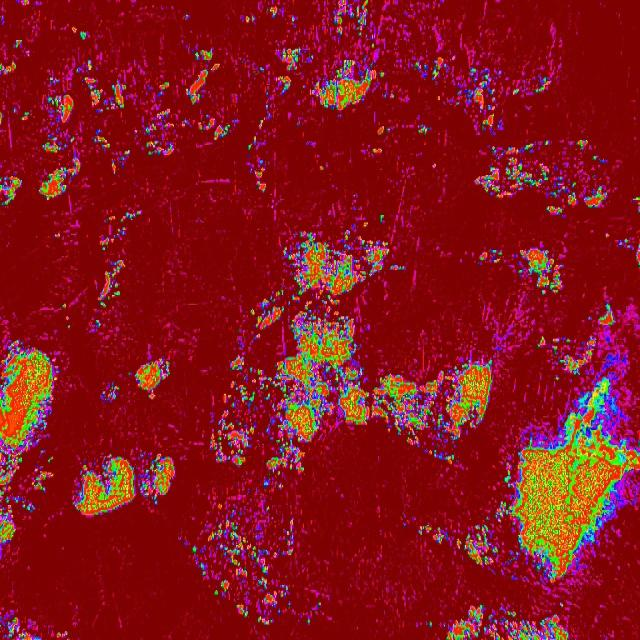fire: (210, 230, 493, 488), (495, 376, 640, 590), (190, 503, 296, 627), (0, 338, 58, 548), (473, 136, 618, 219), (72, 450, 176, 518), (446, 601, 568, 640), (312, 56, 384, 109), (454, 64, 504, 136), (74, 58, 127, 114), (538, 333, 598, 378), (512, 245, 562, 299), (38, 155, 86, 200), (0, 610, 68, 640), (96, 210, 142, 254), (187, 48, 220, 106), (465, 515, 496, 570), (133, 358, 171, 400), (144, 106, 175, 156), (603, 230, 640, 268), (418, 522, 462, 552), (98, 258, 124, 308), (334, 0, 369, 34), (411, 54, 448, 84), (48, 93, 74, 127), (200, 113, 232, 139), (0, 172, 23, 206), (246, 160, 267, 194), (110, 148, 133, 174), (280, 45, 302, 69), (596, 300, 616, 326), (40, 132, 66, 152), (302, 600, 321, 624), (99, 381, 118, 404), (93, 128, 111, 152), (276, 74, 294, 98), (534, 73, 550, 95), (61, 302, 72, 332), (0, 60, 19, 76), (246, 132, 260, 152), (346, 220, 372, 230), (416, 122, 432, 138), (72, 27, 90, 41), (10, 34, 25, 50), (631, 191, 640, 215), (268, 4, 282, 18), (254, 115, 267, 130), (156, 79, 168, 95), (46, 74, 62, 85), (494, 248, 504, 264), (18, 110, 31, 122), (377, 125, 391, 136), (383, 91, 398, 101), (242, 15, 260, 23), (178, 534, 188, 548), (180, 117, 190, 131), (372, 146, 386, 156), (94, 316, 102, 332), (318, 162, 328, 173), (512, 86, 522, 96), (258, 64, 268, 74), (427, 619, 436, 630), (184, 11, 193, 21), (18, 0, 32, 6), (378, 213, 386, 223), (68, 134, 76, 144), (0, 109, 4, 126), (264, 88, 270, 98), (263, 102, 271, 109)
